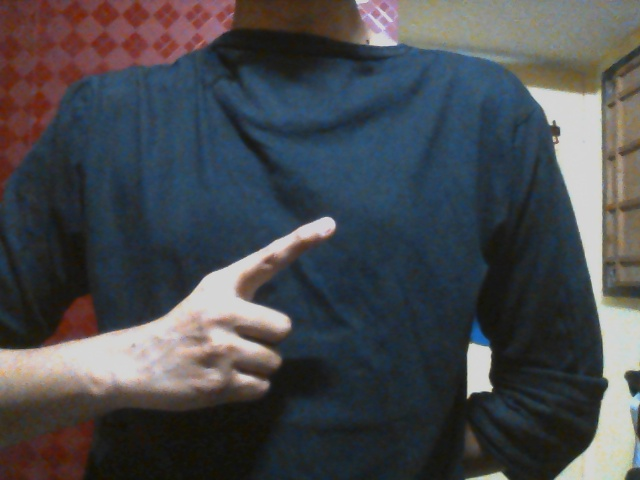I: (147, 216, 336, 414)
